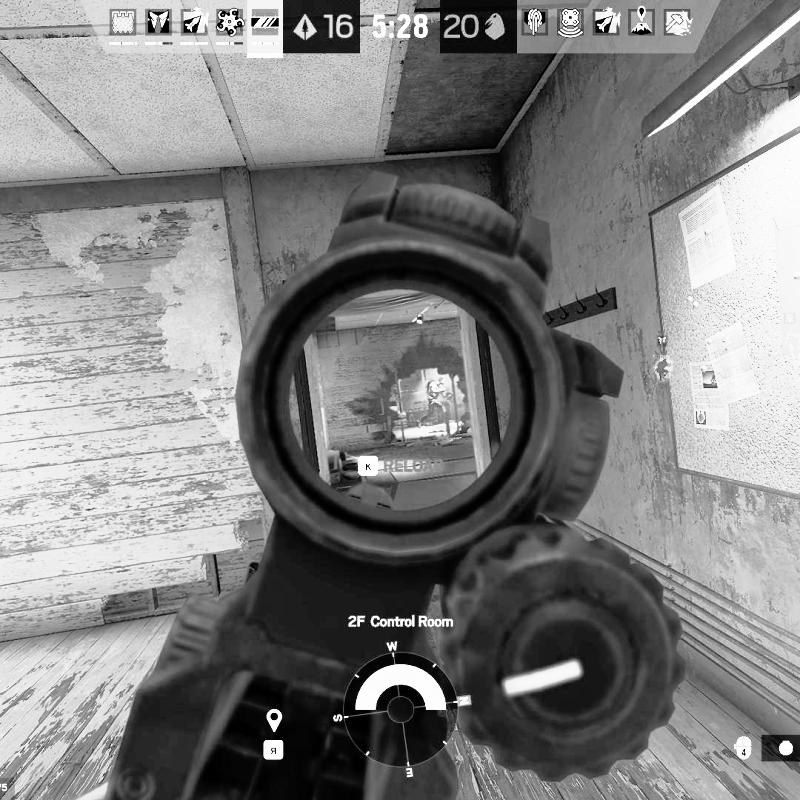Character: (416, 377, 454, 428)
Friend_label: (775, 310, 800, 337), (650, 334, 675, 360)
Head: (436, 376, 446, 384)
